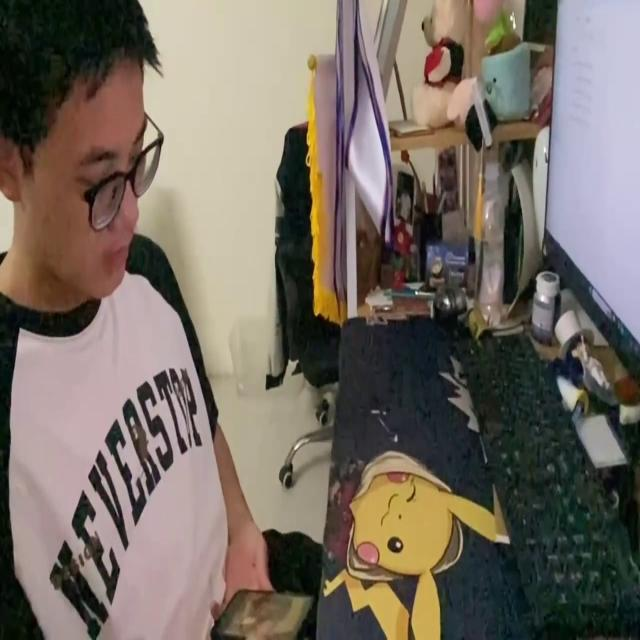laptop: (540, 0, 639, 397)
phone: (206, 577, 315, 640)
student: (0, 0, 319, 640)
